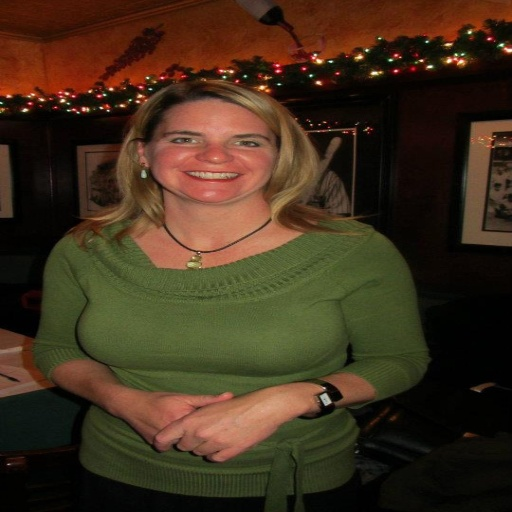hand: (110, 390, 233, 448)
